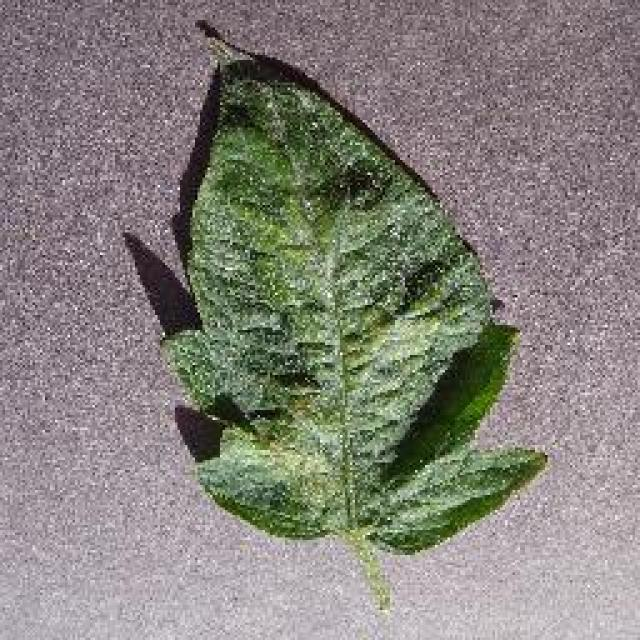Tom_Spider_mites Two-spotted_spider_mite: (224, 115, 416, 501)
